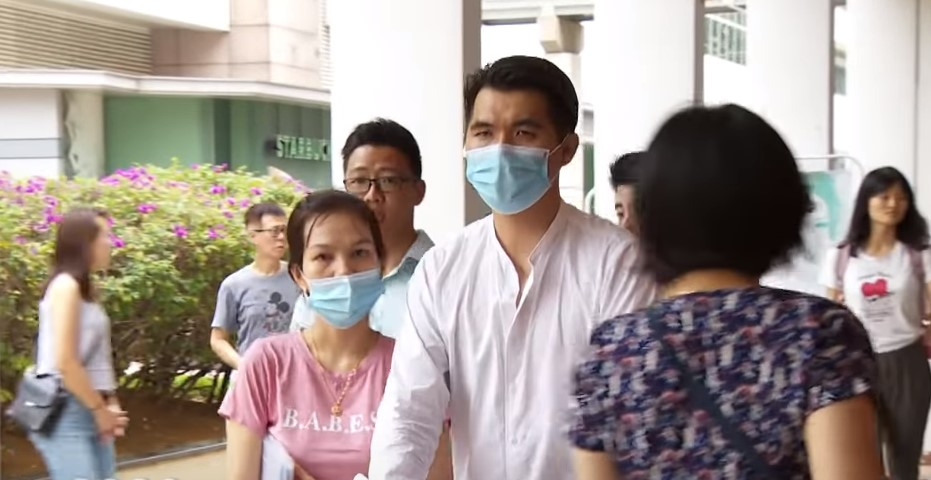face_no_mask: (59, 212, 118, 273), (851, 166, 909, 226)
face_with_mask: (462, 59, 579, 216), (285, 189, 388, 328)
